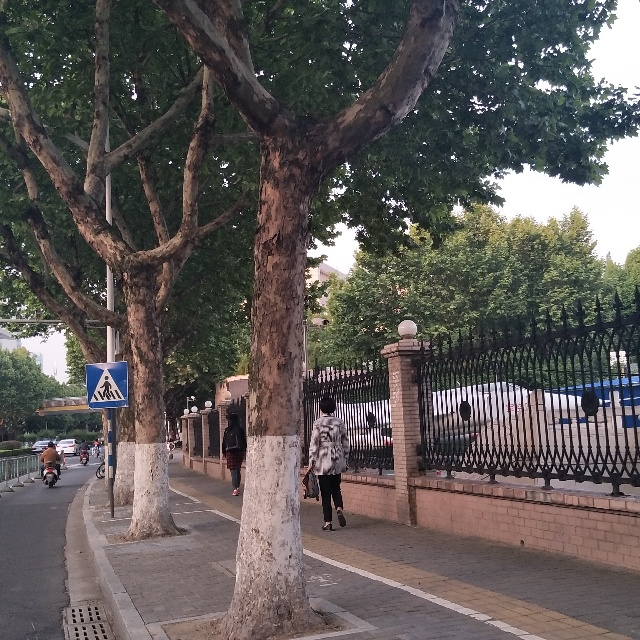crosswalk: (87, 360, 129, 408)
